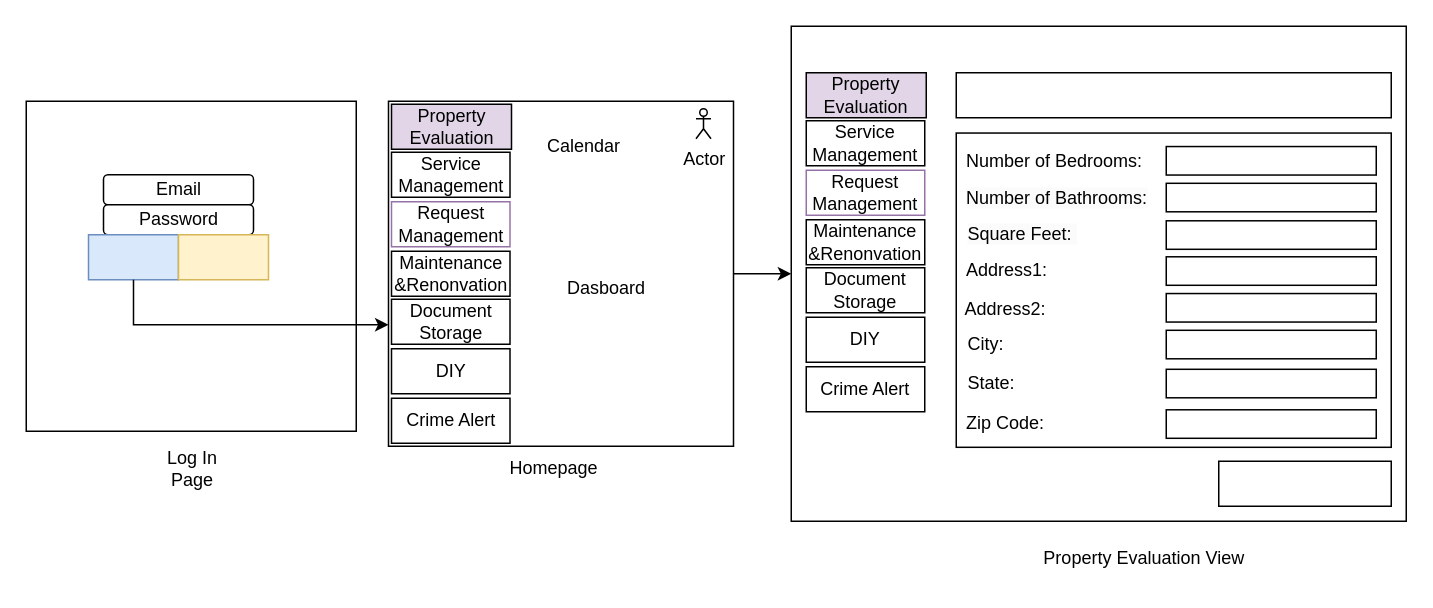
Some shapes in this 1433 by 608 pixel diagram are drawn without their labels. The centre of each missing label's shape, as x and y in pixels:
"Evaluate Property" goes at [1304,483].
"LogIn" goes at [132,256].
"Property Evaluation: 00000.000" goes at [1173,94].
"Sign up" goes at [222,256].
